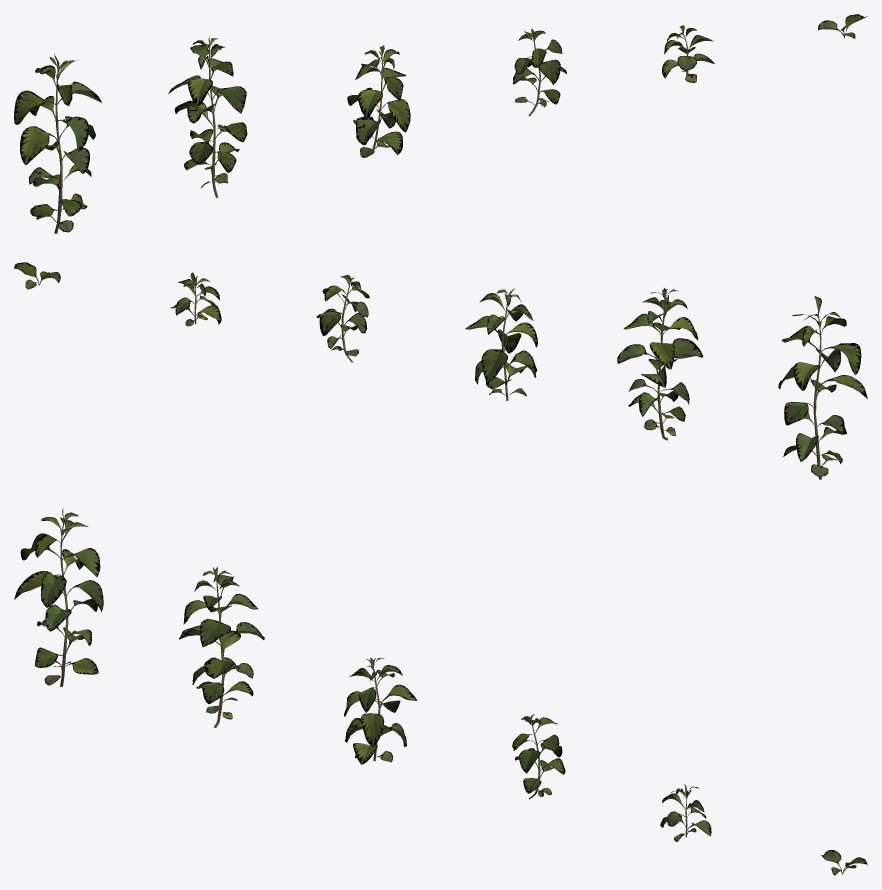
The model's file is mato3.glb.
3 views of the same model, one above another, from view 1: azimuth 30°, elevation 25°; view 2: azimuth 150°, elevation 25°; view 3: azimuth 330°, elevation 25° (orthographic).
Parts seen in each view (by area): view 1: nettle_plant_tall_a_LOD0, nettle_plant_tall_b_LOD0, nettle_plant_medium_a_LOD0, nettle_plant_medium_b_LOD0, nettle_plant_small_a_LOD0; view 2: nettle_plant_tall_a_LOD0, nettle_plant_tall_b_LOD0, nettle_plant_medium_a_LOD0, nettle_plant_medium_b_LOD0, nettle_plant_small_a_LOD0, nettle_plant_small_b_LOD0; view 3: nettle_plant_tall_a_LOD0, nettle_plant_tall_b_LOD0, nettle_plant_medium_a_LOD0, nettle_plant_medium_b_LOD0, nettle_plant_small_a_LOD0.
Part boxes in pixels (x1,y1,x2,y2): nettle_plant_tall_a_LOD0: (14,54,101,233); nettle_plant_tall_b_LOD0: (168,37,247,197); nettle_plant_medium_a_LOD0: (347,45,410,157); nettle_plant_medium_b_LOD0: (512,28,566,116); nettle_plant_small_a_LOD0: (662,25,714,82); nettle_plant_tall_a_LOD0: (778,296,867,479); nettle_plant_tall_b_LOD0: (617,288,703,440); nettle_plant_medium_a_LOD0: (465,288,537,400); nettle_plant_medium_b_LOD0: (316,275,369,362); nettle_plant_small_a_LOD0: (170,272,221,326); nettle_plant_small_b_LOD0: (14,262,60,289); nettle_plant_tall_a_LOD0: (14,508,103,686); nettle_plant_tall_b_LOD0: (179,567,264,727); nettle_plant_medium_a_LOD0: (344,657,417,764); nettle_plant_medium_b_LOD0: (512,714,565,799); nettle_plant_small_a_LOD0: (660,784,711,841).
Bounding box in the file's own units: 1.08 × 0.2183 × 0.0947.
1 material, 1 textured.
